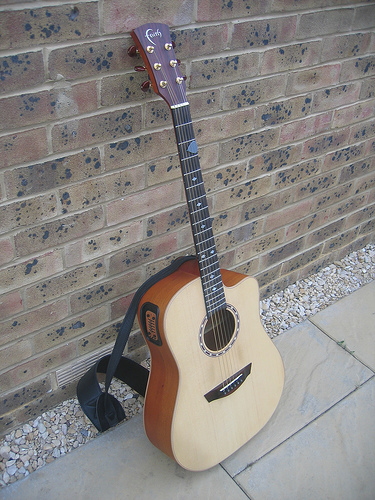guitar: (110, 22, 287, 473)
